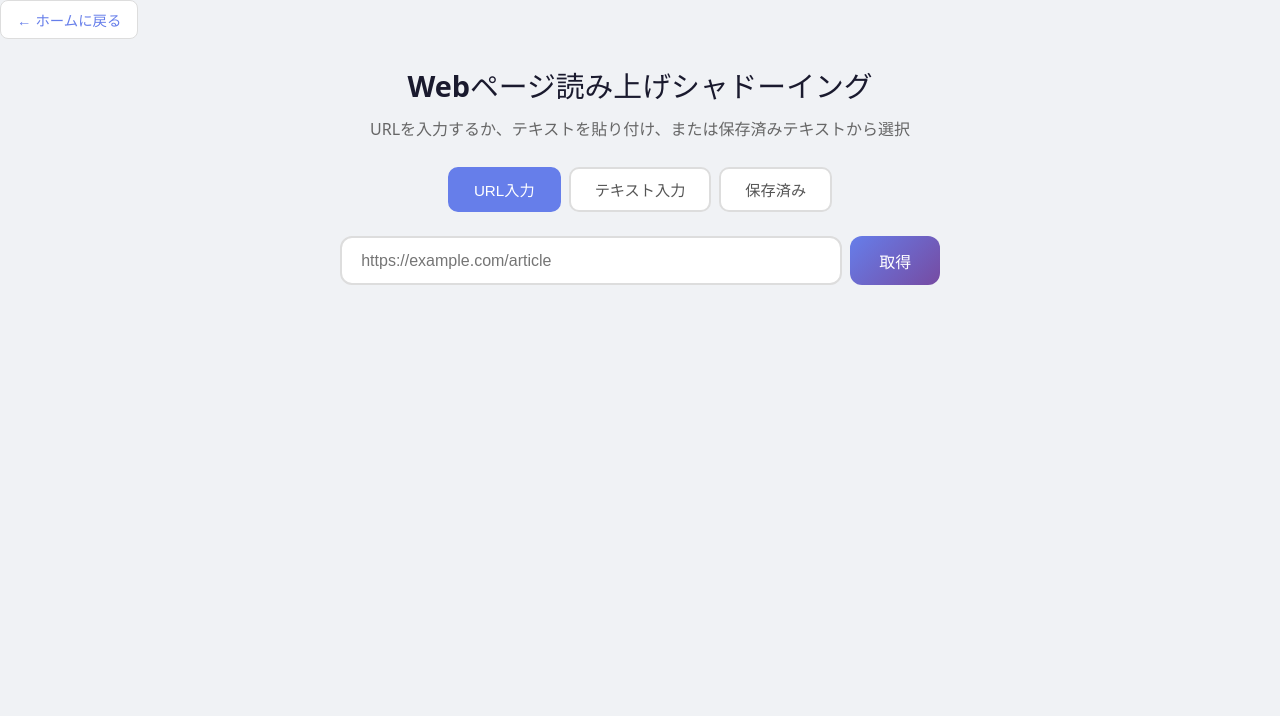
Scenario: TextReaderPage › loads text and shows sentences
This screenshot has width=1280, height=716.
Click the button "テキスト入力".
click(640, 189)  # box 569,167 -> 711,212
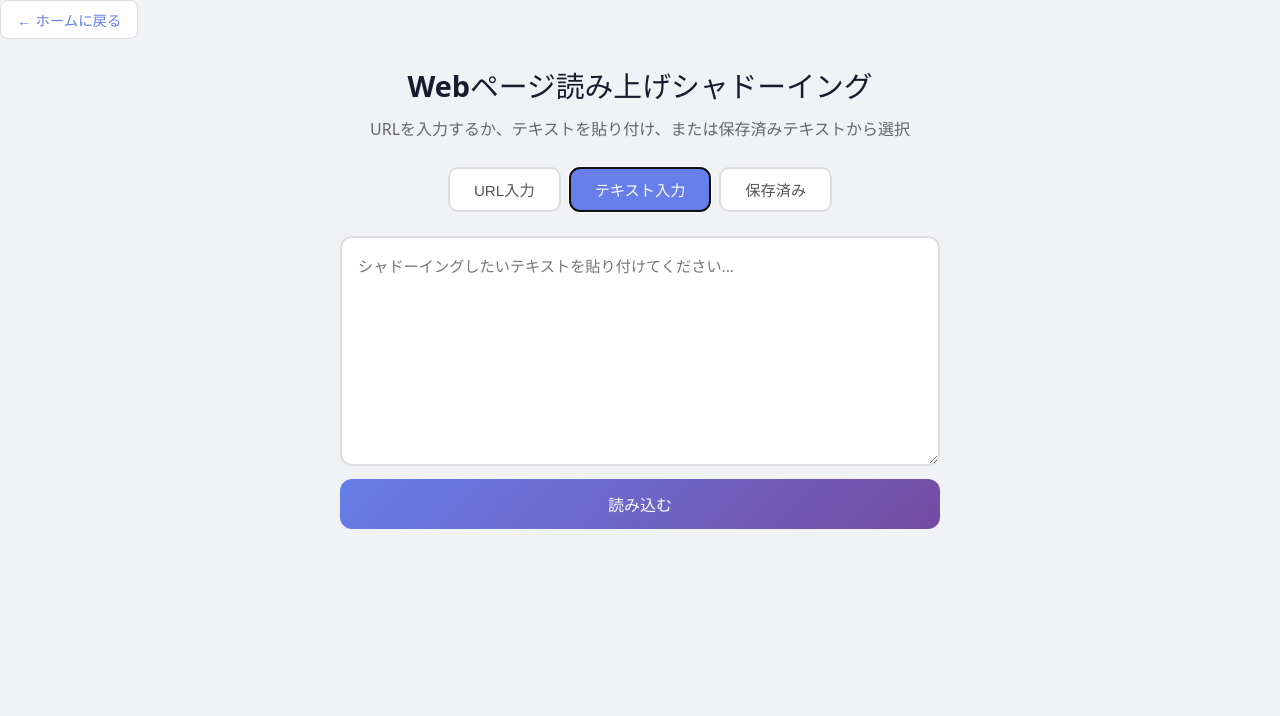
Type "Hello world. This is a test. Another sentence." into the text box with placeholder "シャドーイングしたいテキストを貼り付けてください...".
click(640, 351); type("Hello world. This is a test. Another sentence.")  # box 340,236 -> 940,466
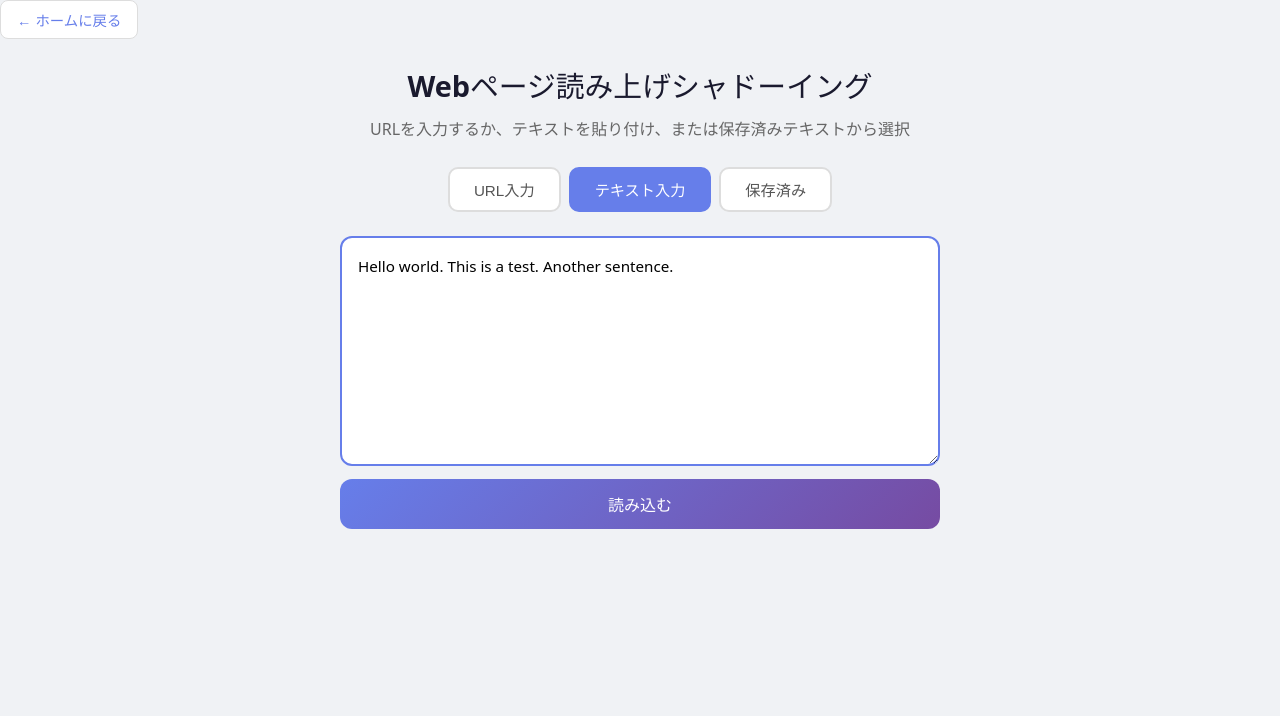
Click the button "読み込む".
click(640, 504)  # box 340,479 -> 940,529
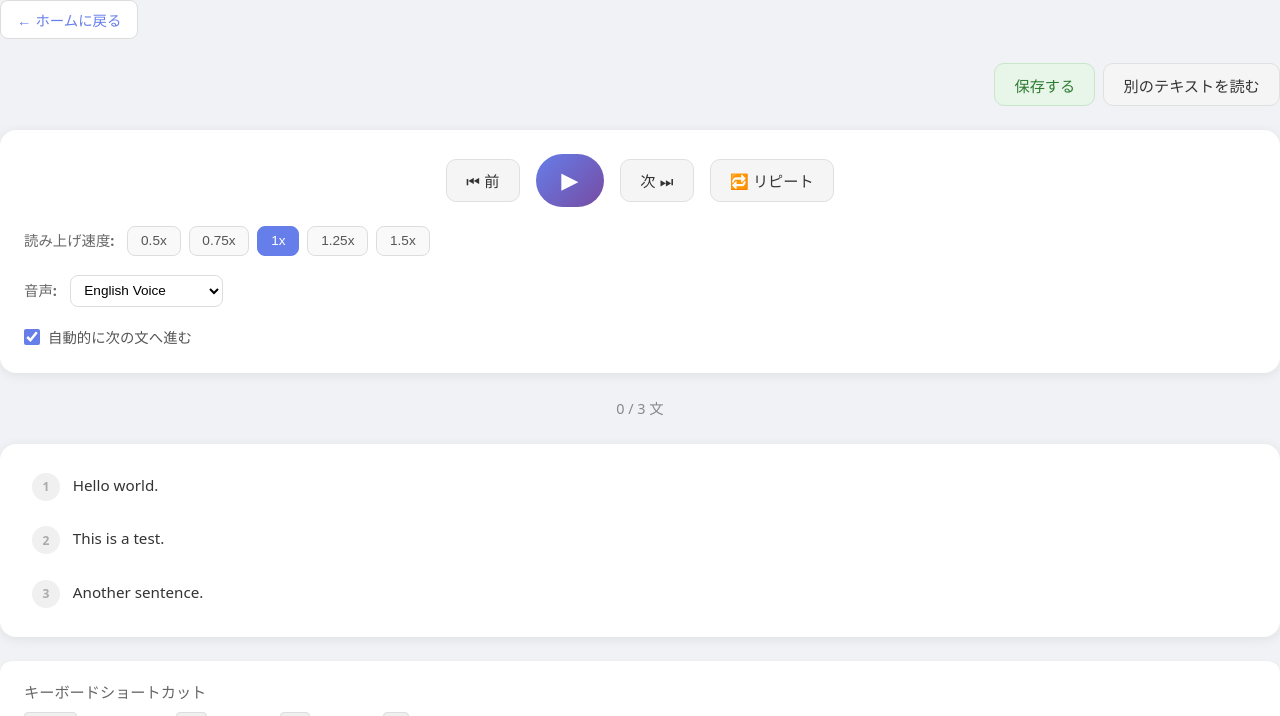
Expected: the text "Hello world." is shown, 73,473 -> 158,497
Expected: the text "This is a test." is shown, 73,526 -> 164,551
Expected: the text "Another sentence." is shown, 73,580 -> 203,604
